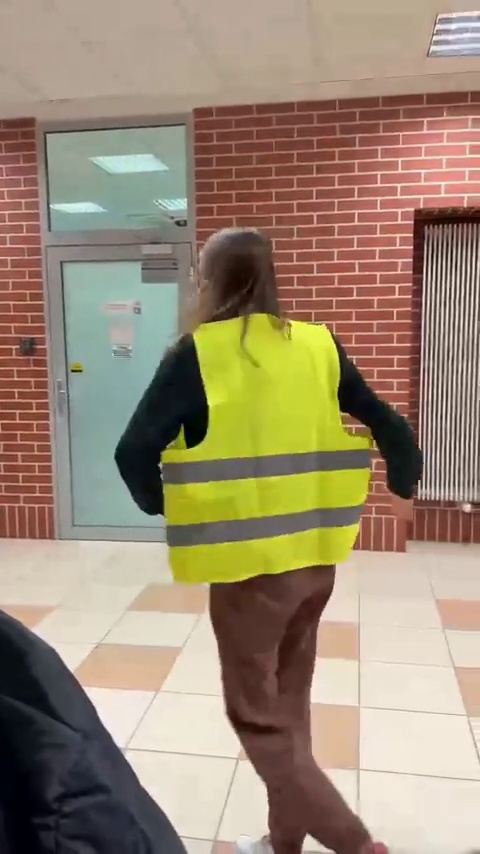vest: (144, 214, 435, 854)
